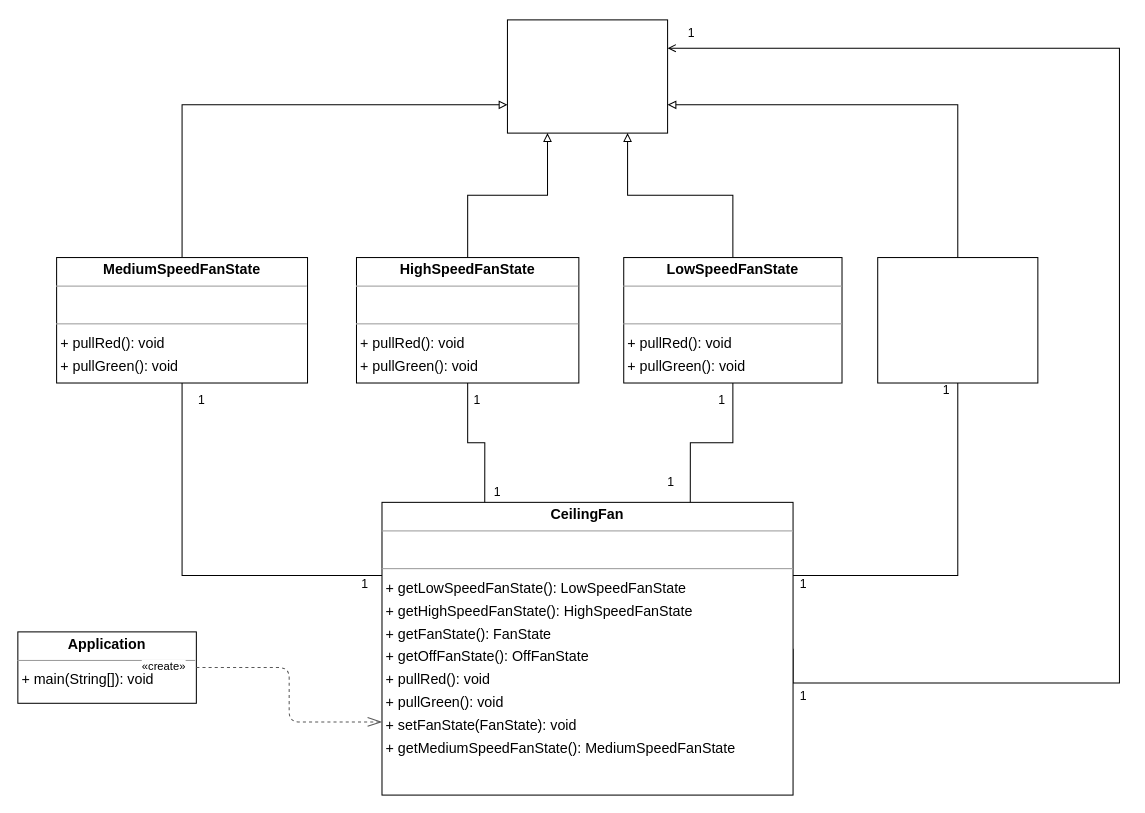
The diagram is 1145 pixels wide and 813 high, and some of its shapes have lost their labels. Each missing label, with the box of its shape:
<<interface>> FanState + pullGreen(): void + pullRed(): void: (506, 19, 668, 133)
OffFanState + pullGreen(): void + pullRed(): void: (877, 257, 1038, 383)
